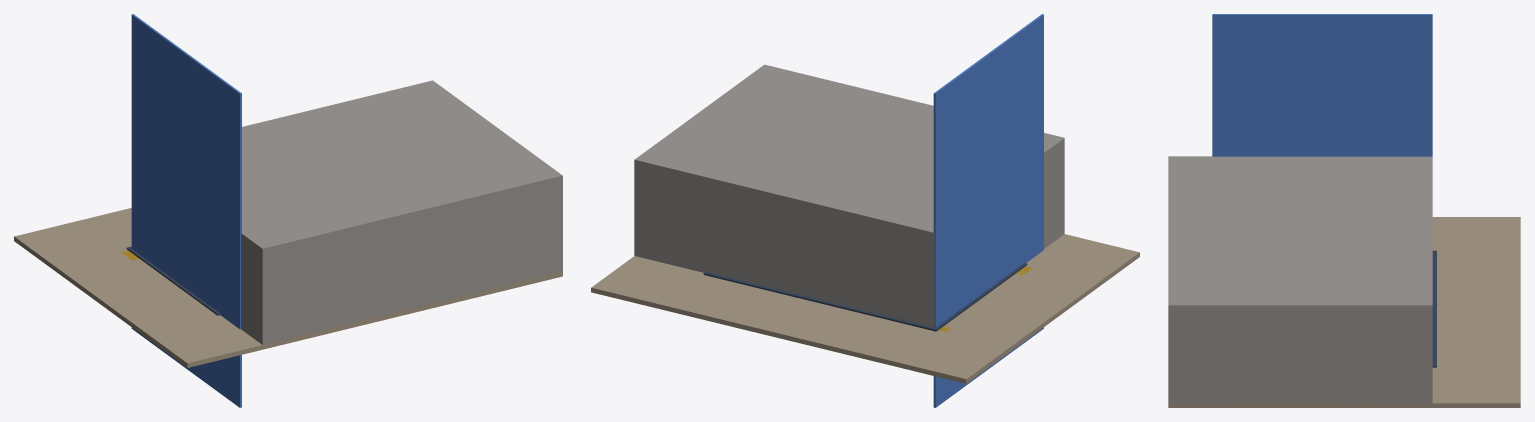
The model's file is stage_03_structural_frame.glb.
3 views of the same model, side by side, from view 1: azimuth 30°, elevation 25°; view 2: azimuth 150°, elevation 25°; view 3: azimuth 270°, elevation 25° (orthographic).
Visible parts, largest first — view 1: world; view 2: world; view 3: world.
Boxes of the visible parts, x1,y1,x2,y2 form: world: (14,14,562,407); world: (591,14,1139,407); world: (1168,14,1520,407).
Bounding box in the file's own units: 10 × 8 × 8.
